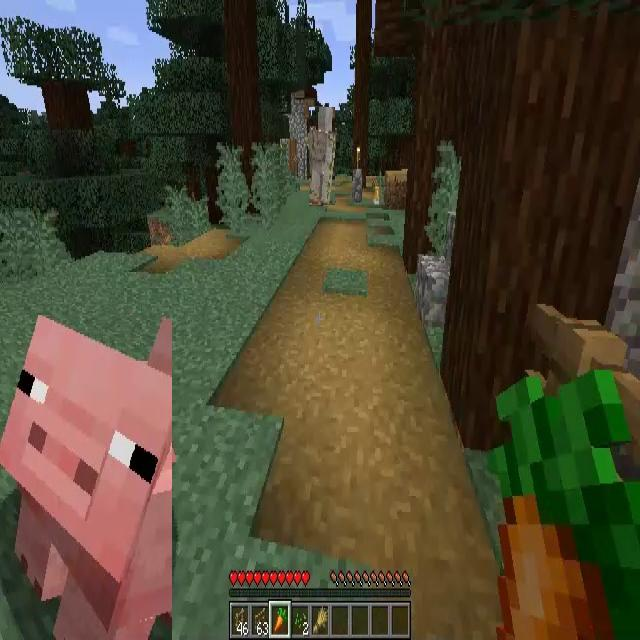people: (309, 107, 335, 205)
pig: (0, 315, 172, 640)
